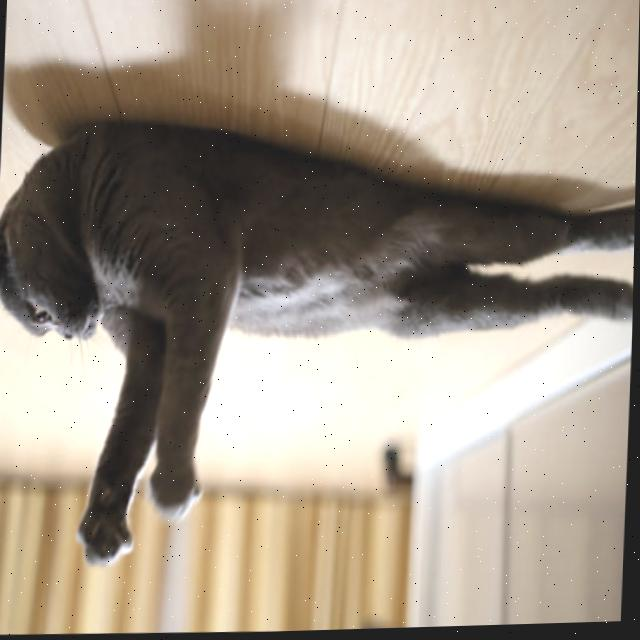Scottish Fold: (0, 103, 638, 589)
